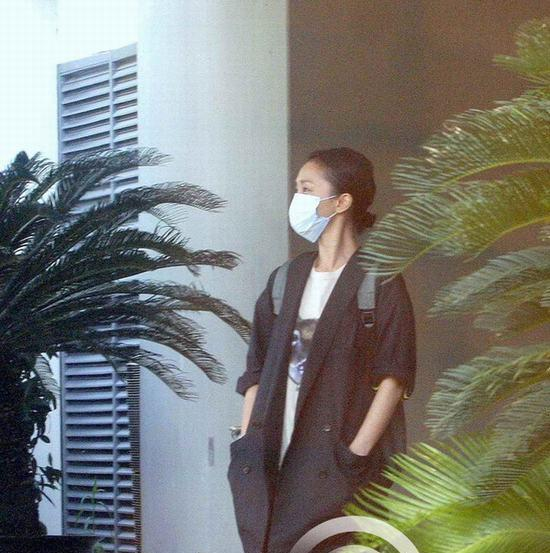OK: (288, 174, 352, 238)
